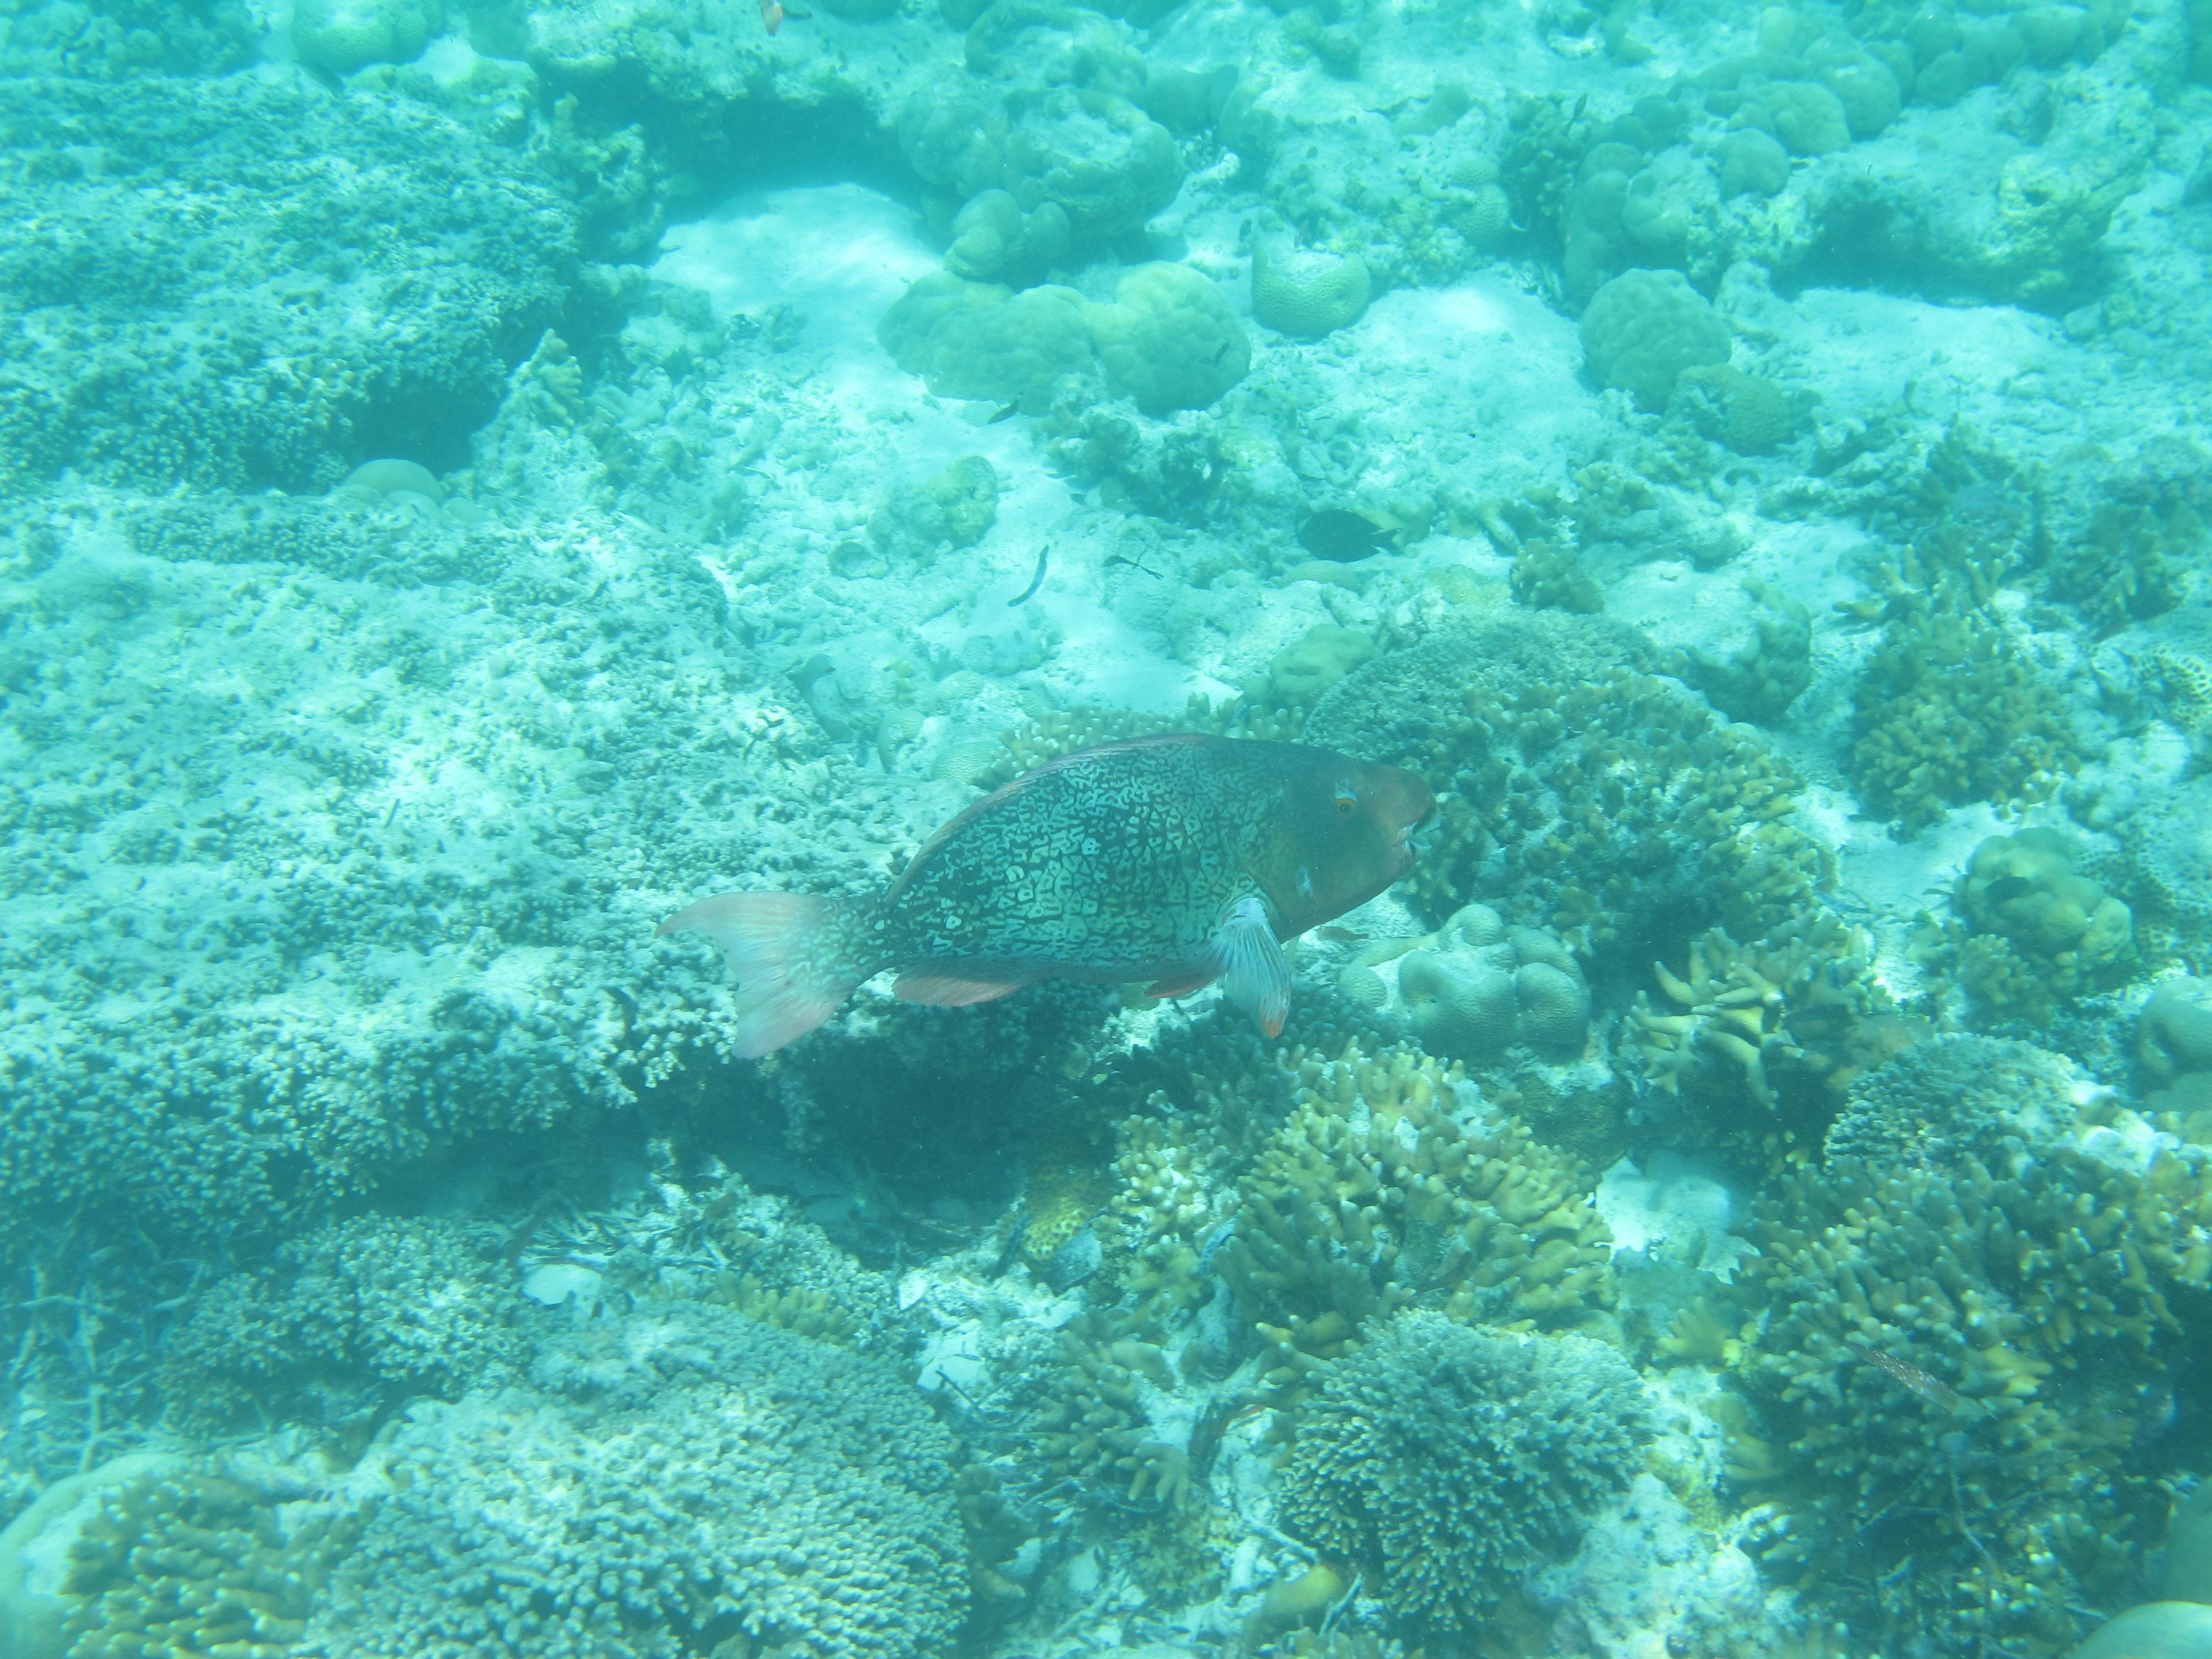Scarus rubroviolaceus: (660, 685, 1662, 1168)
